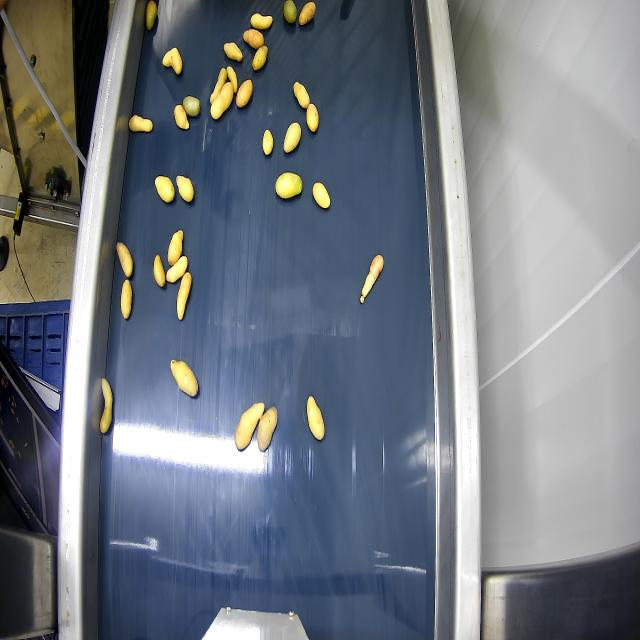Baby Potato: (234, 402, 264, 450), (360, 257, 383, 303), (171, 360, 198, 397), (257, 408, 277, 451), (211, 82, 233, 119), (307, 396, 324, 440), (275, 173, 302, 199), (177, 272, 191, 320), (100, 378, 112, 433), (210, 68, 227, 103), (166, 256, 187, 283), (116, 243, 132, 278), (168, 231, 183, 266), (162, 48, 182, 74), (284, 122, 301, 152), (155, 176, 174, 202), (120, 279, 132, 320), (312, 183, 330, 208), (176, 176, 193, 202), (236, 80, 252, 107), (243, 29, 264, 49), (154, 254, 166, 288), (294, 82, 309, 109), (129, 115, 152, 132), (252, 46, 267, 71), (174, 104, 189, 129), (299, 2, 315, 25), (183, 96, 200, 117), (146, 0, 157, 31), (306, 104, 318, 132), (251, 14, 272, 30), (224, 43, 242, 61), (283, 0, 297, 23), (226, 66, 237, 93), (262, 129, 273, 155)
